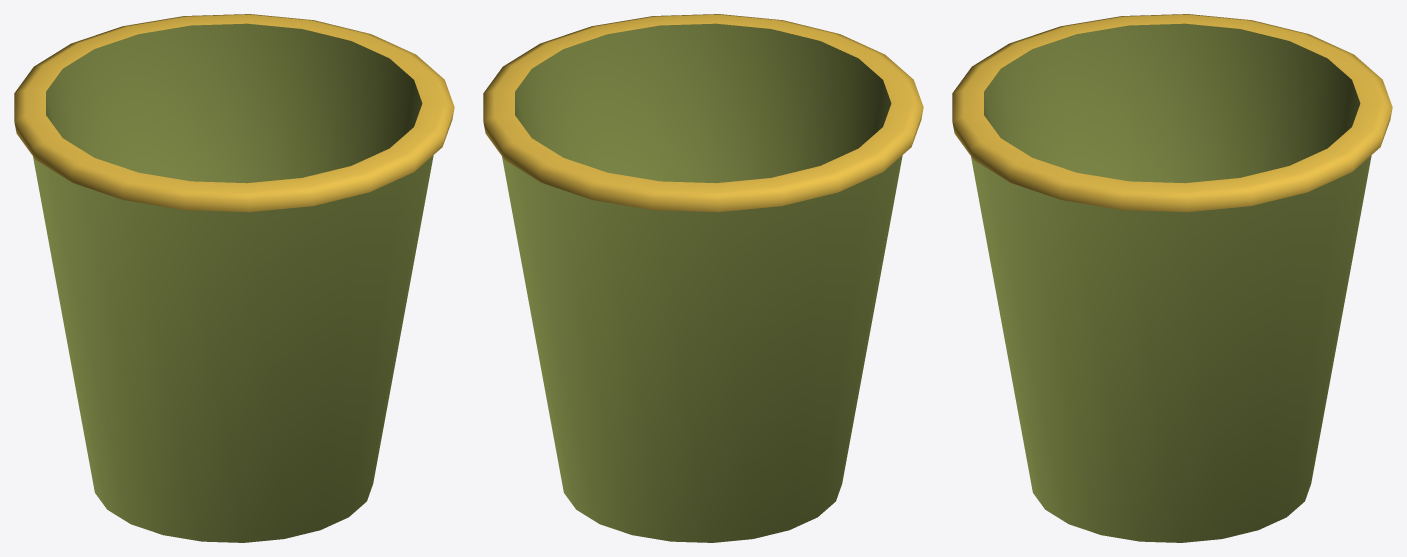
The model's file is garbage bin green.fbx.
The picture shows the model from 3 angles, left to right: view 1: azimuth 30°, elevation 25°; view 2: azimuth 150°, elevation 25°; view 3: azimuth 270°, elevation 25°; orthographic projection.
Visible parts, largest first — view 1: 柱体.003; view 2: 柱体.003; view 3: 柱体.003.
Boxes of the visible parts, <box> form: 柱体.003: <box>14,14,454,542</box>; 柱体.003: <box>483,14,923,542</box>; 柱体.003: <box>952,14,1392,542</box>.
Size of the model in its own units: 29.32 by 27.88 by 29.23.
